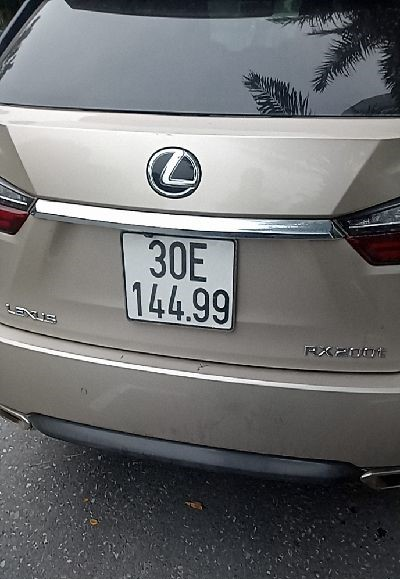number_plate: (109, 222, 251, 335)
